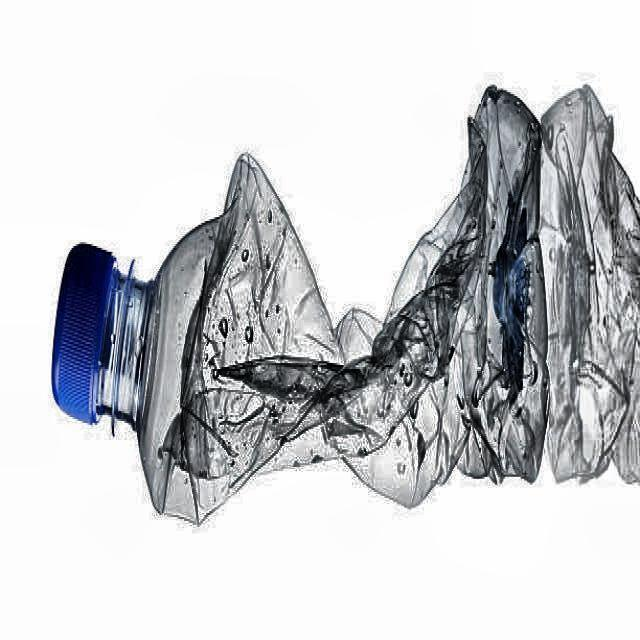plastic: (55, 89, 545, 522)
